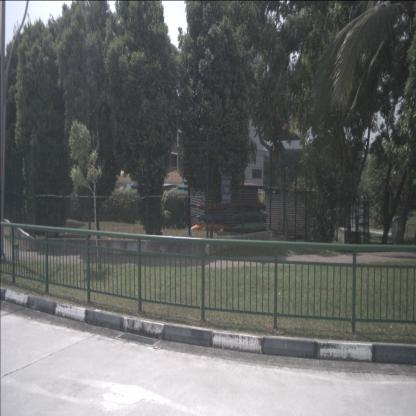vehicle-car: (392, 216, 411, 228)
